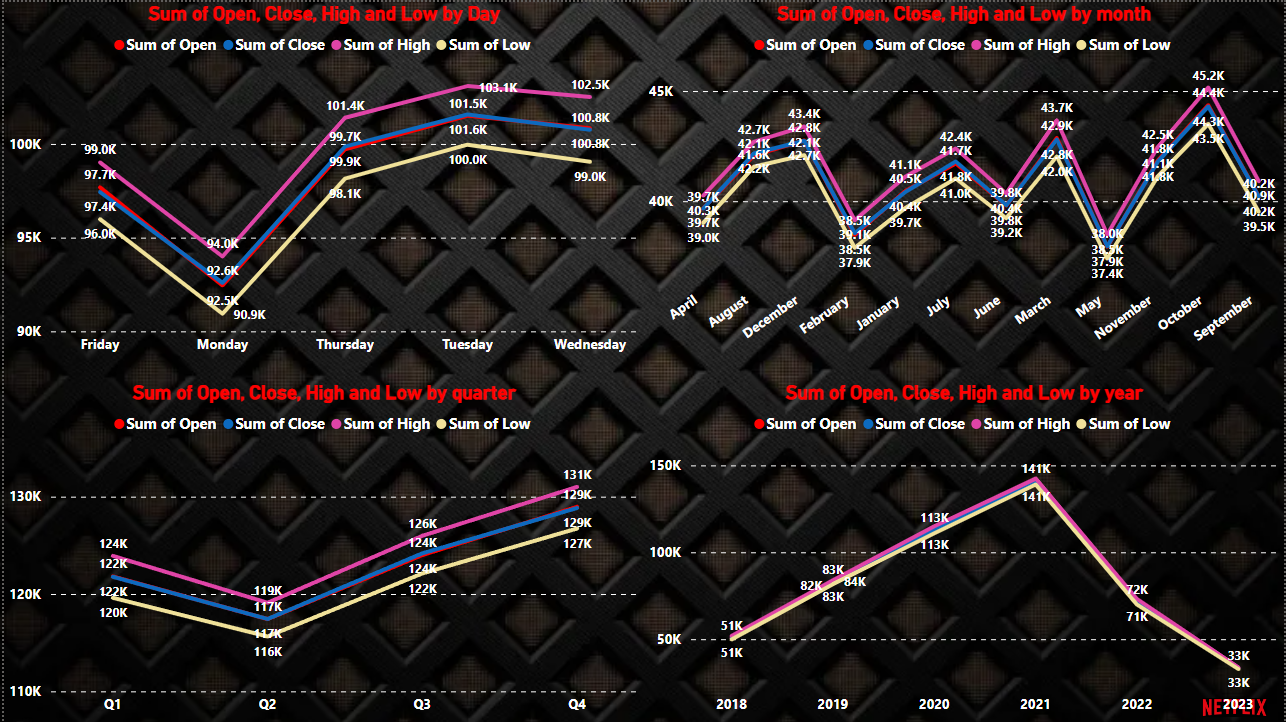

The page's visual inventory and layout, read from the dashboard file:
{"tool":"powerbi","page":{"name":"Page 2","canvas":[1280,720],"ordinal":1},"visuals":[{"type":"image","box":[1181.2,691.2,98.8,28.8],"z":0},{"type":"lineChart","title":"Sum of Open, Close, High and Low by Day","fields":{"Category":["Sheet1.Day"],"Y":["Sum(Sheet1.Open)","Sum(Sheet1.Close)","Sum(Sheet1.High)","Sum(Sheet1.Low)"]},"box":[0,0,640,360],"z":1000},{"type":"lineChart","title":"Sum of Open, Close, High and Low by month","fields":{"Y":["Sum(Sheet1.Open)","Sum(Sheet1.Close)","Sum(Sheet1.High)","Sum(Sheet1.Low)"],"Category":["Sheet1.Month"]},"box":[640,0,640,360],"z":2000},{"type":"lineChart","title":"Sum of Open, Close, High and Low by quarter","fields":{"Y":["Sum(Sheet1.Open)","Sum(Sheet1.Close)","Sum(Sheet1.High)","Sum(Sheet1.Low)"],"Category":["Sheet1.Quarter"]},"box":[0,378.8,640,341.2],"z":3000},{"type":"lineChart","title":"Sum of Open, Close, High and Low by year","fields":{"Y":["Sum(Sheet1.Open)","Sum(Sheet1.Close)","Sum(Sheet1.High)","Sum(Sheet1.Low)"],"Category":["Sheet1.Year"]},"box":[640,378.8,640,341.2],"z":4000}]}

Visuals, with their boxes in screenshot pixels (x1, y1, x2, y2), scaled from the page's 1280x720 canvas onto the 1286x722 screenshot:
image: <region>1187, 693, 1285, 721</region>
"Sum of Open, Close, High and Low by Day" lineChart: <region>0, 0, 643, 361</region>
"Sum of Open, Close, High and Low by month" lineChart: <region>643, 0, 1285, 361</region>
"Sum of Open, Close, High and Low by quarter" lineChart: <region>0, 380, 643, 721</region>
"Sum of Open, Close, High and Low by year" lineChart: <region>643, 380, 1285, 721</region>
